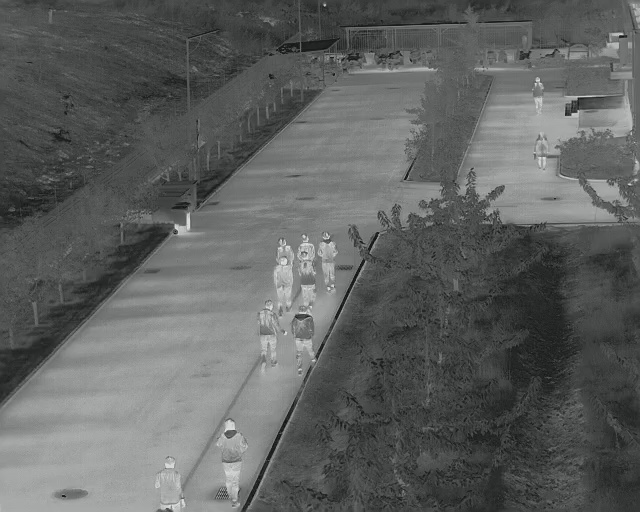person: (215, 417, 251, 508), (257, 299, 288, 375), (291, 305, 319, 379), (154, 455, 187, 512), (316, 230, 341, 295), (274, 256, 294, 321), (296, 251, 317, 312), (534, 131, 551, 171), (531, 76, 547, 116)
